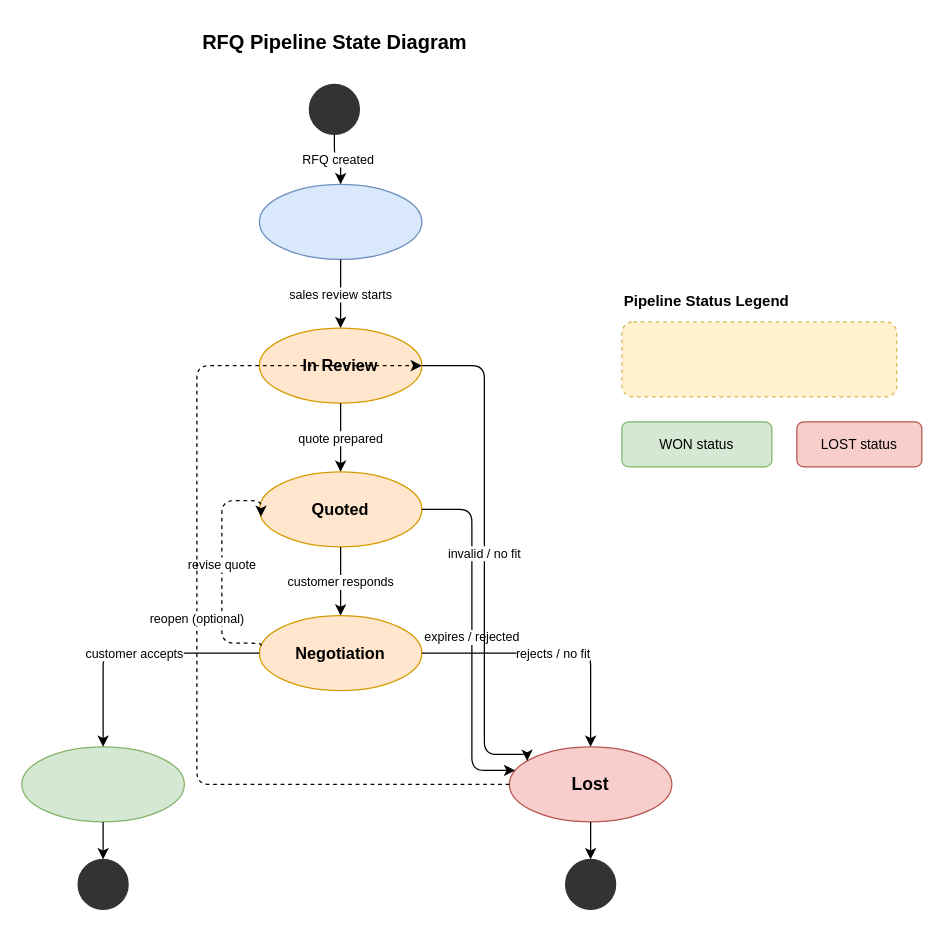
Image size: 944x931. Some labels were removed from this diagram. Here are the shapes that lost their labels. From the top down, the centre of each, then its label:
the point at 340,221: New
the point at 759,359: OPEN status: New, In Review, Quoted, Negotiation
the point at 102,784: Won
